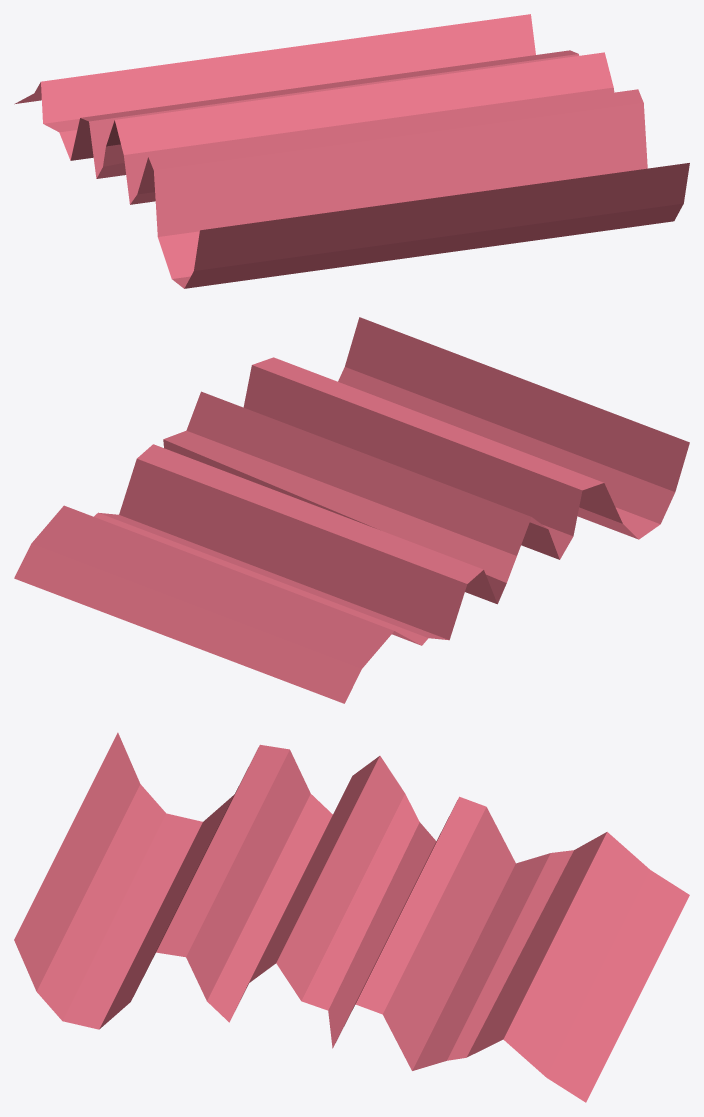
File: Prosciutto.fbx
3 renders of one model, top to bottom at view 1: azimuth 30°, elevation 25°; view 2: azimuth 150°, elevation 25°; view 3: azimuth 270°, elevation 25°, orthographic. The views are drawn at different scales.
Parts seen in each view (by area): view 1: Plane; view 2: Plane; view 3: Plane.
Part boxes in pixels (box(x1,y1,x2,y2)): Plane: box(14, 14, 689, 288); Plane: box(14, 317, 689, 703); Plane: box(14, 732, 689, 1102).
Bounding box in the file's own units: 12.93 × 2.61 × 14.26.
